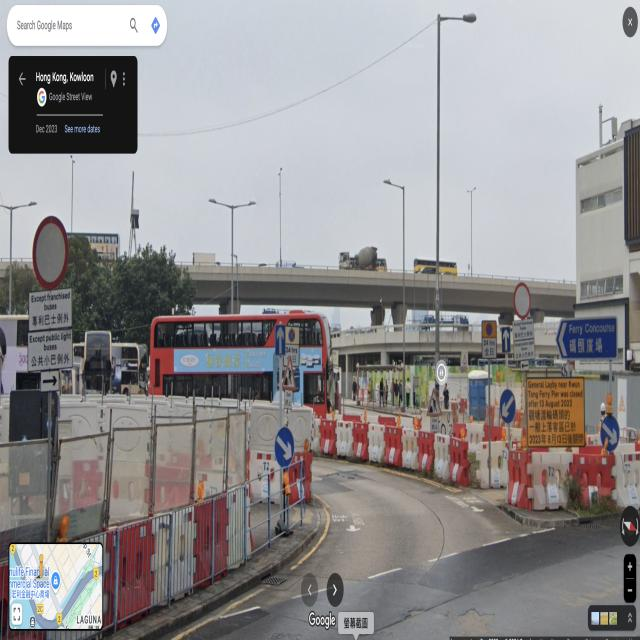Direction-Sign: (276, 325, 284, 356)
Order-Sign: (555, 316, 617, 361), (33, 216, 67, 288), (29, 330, 72, 374), (30, 290, 72, 328), (275, 426, 294, 468), (600, 415, 620, 452), (514, 282, 530, 319), (500, 388, 516, 422), (482, 320, 496, 358), (514, 340, 535, 359), (512, 320, 534, 338)
Warning-Sign: (281, 355, 296, 391), (426, 388, 443, 416)
